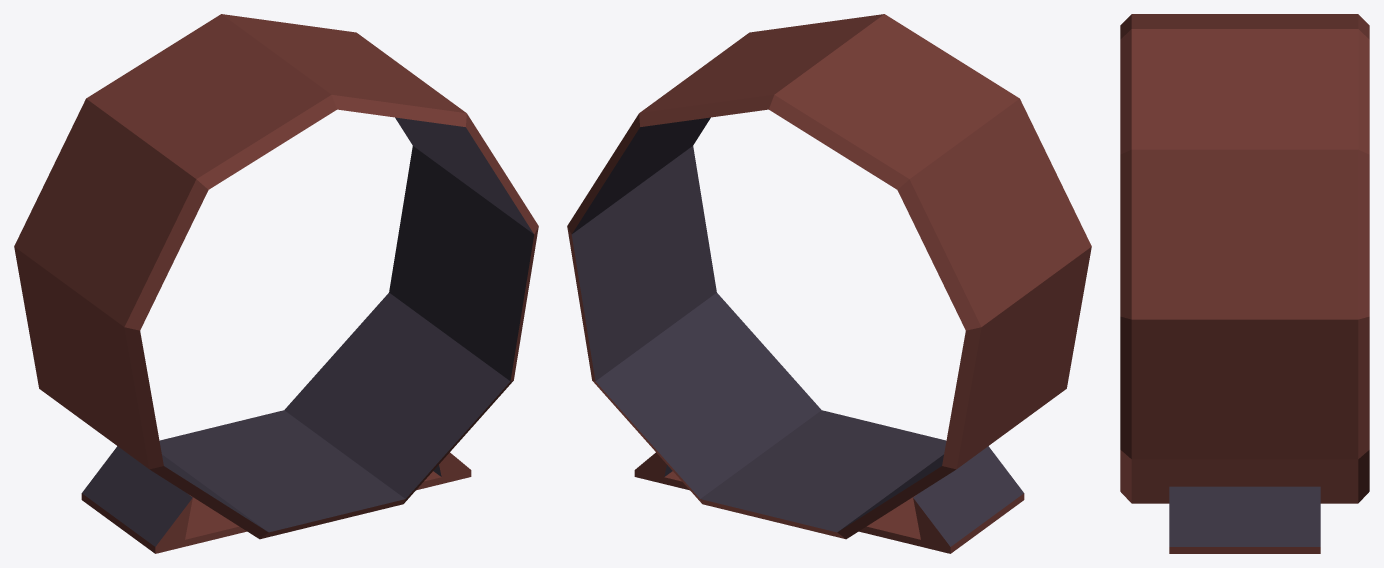
File: motor.glb
3 renders of one model, left to right at view 1: azimuth 30°, elevation 25°; view 2: azimuth 150°, elevation 25°; view 3: azimuth 270°, elevation 25°, orthographic. The views are drawn at different scales.
Parts seen in each view (by area): view 1: Cylinder; view 2: Cylinder; view 3: Cylinder.
Part boxes in pixels (bbox=[...]): Cylinder: bbox=[14, 14, 538, 553]; Cylinder: bbox=[567, 14, 1091, 553]; Cylinder: bbox=[1120, 14, 1369, 553].
Bounding box in the file's own units: 1.97 × 1.97 × 1.
